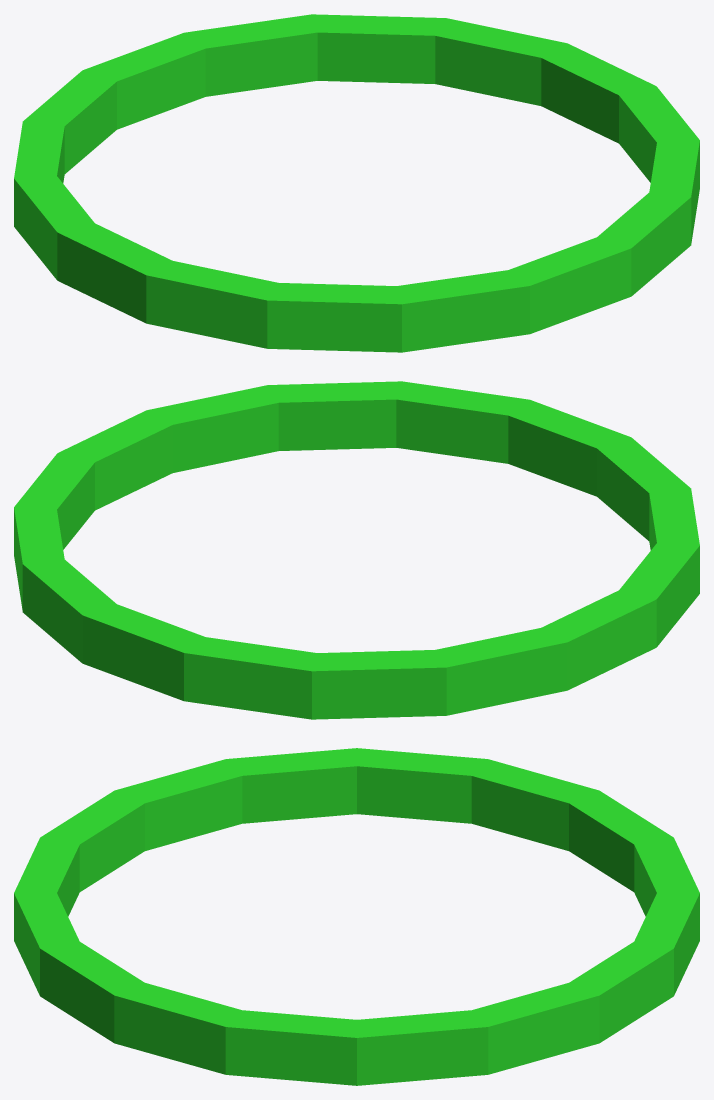
Rendered from ringComplete.fbx.
3 renders of one model, top to bottom at view 1: azimuth 30°, elevation 25°; view 2: azimuth 150°, elevation 25°; view 3: azimuth 270°, elevation 25°, orthographic.
Parts seen in each view (by area): view 1: Circle; view 2: Circle; view 3: Circle.
Part boxes in pixels (x1,y1,x2,y2): Circle: (14,14,699,352); Circle: (14,381,699,719); Circle: (14,748,699,1085).
Bounding box in the file's own units: 200 × 15.41 × 200.
